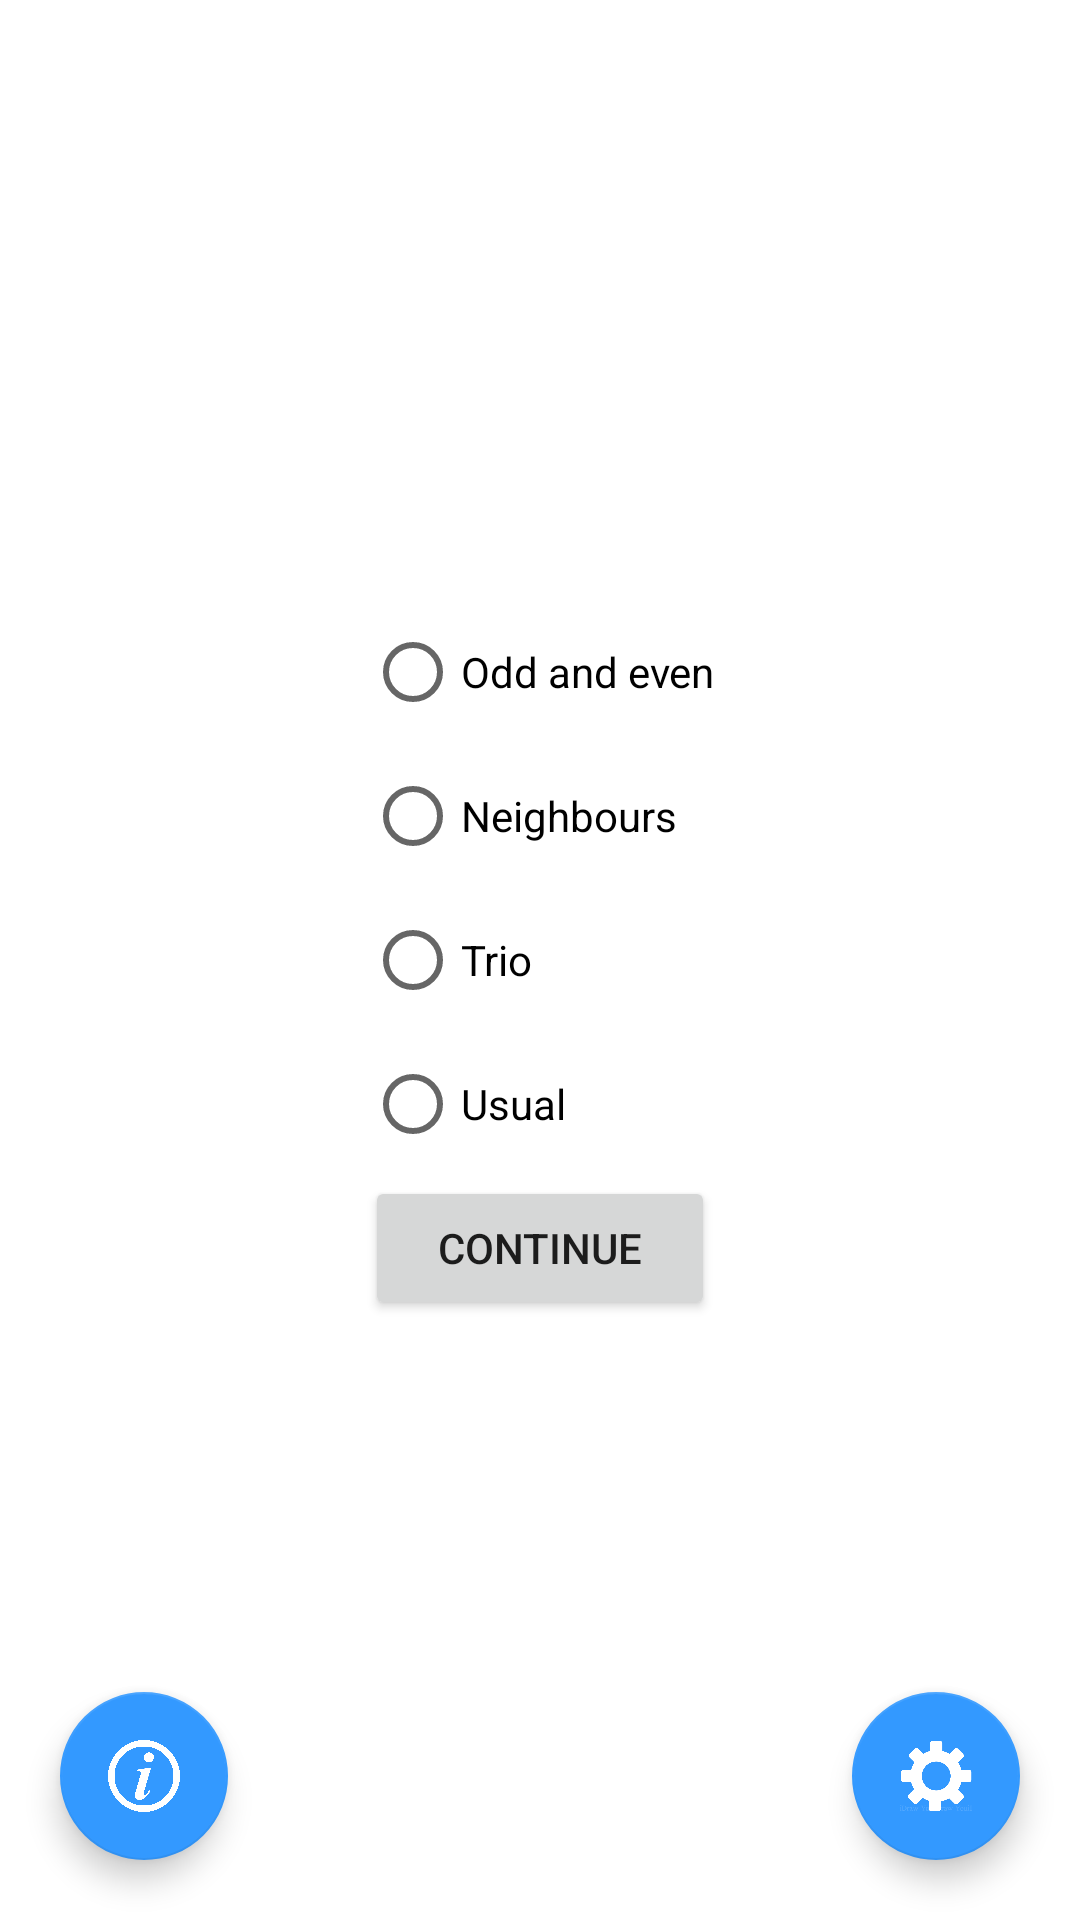

Screen size 1080px×1920px. Icon name, then its box in pixels as (x1, y1, x2, y2):
info: (60, 1692, 228, 1860)
settings: (852, 1692, 1020, 1860)
